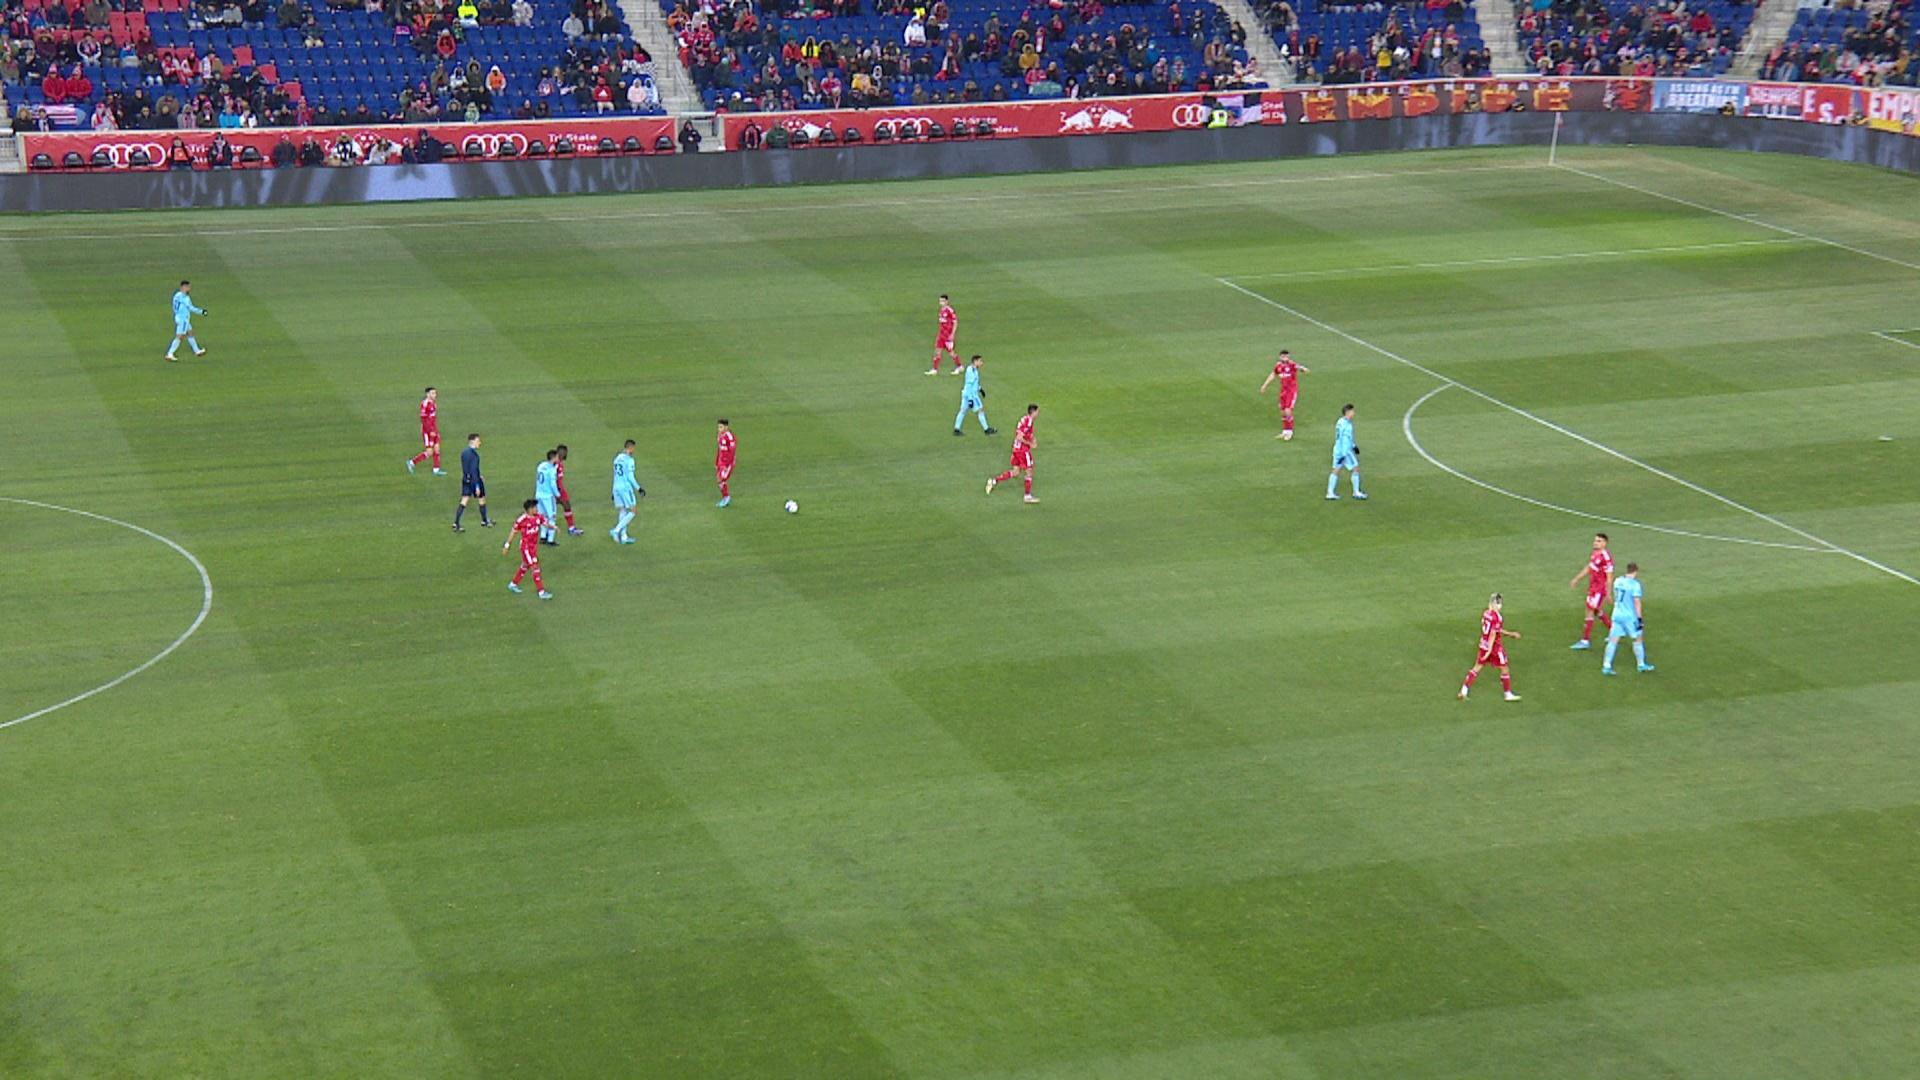football: (785, 498, 799, 514)
